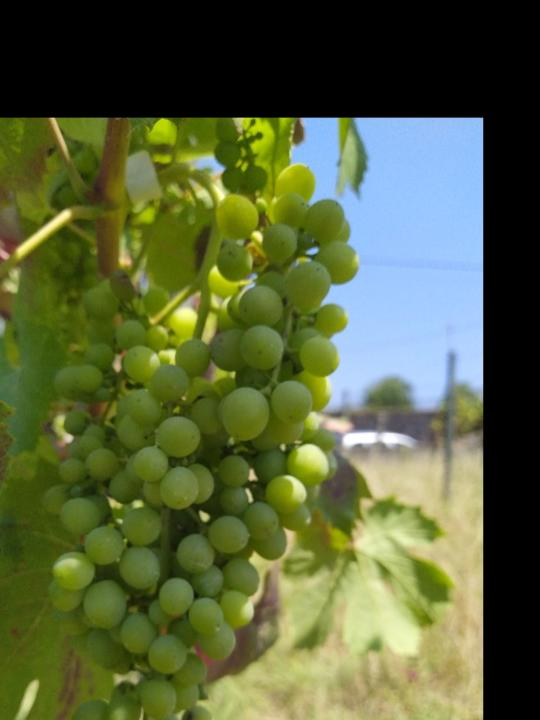grape: (38, 124, 358, 720)
